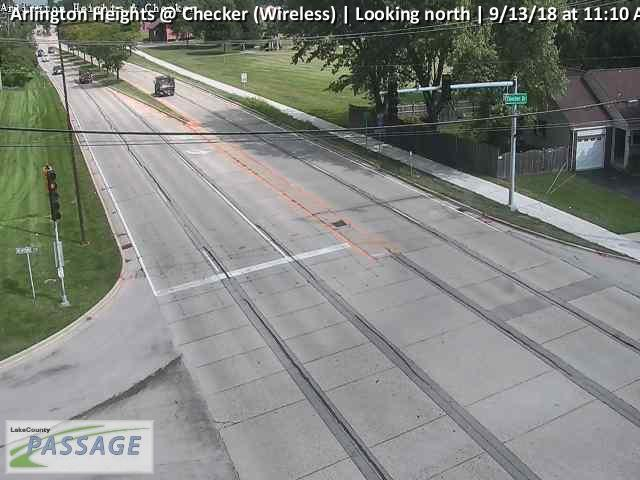Sedan: (154, 75, 175, 96), (77, 69, 91, 82), (52, 65, 62, 74)
